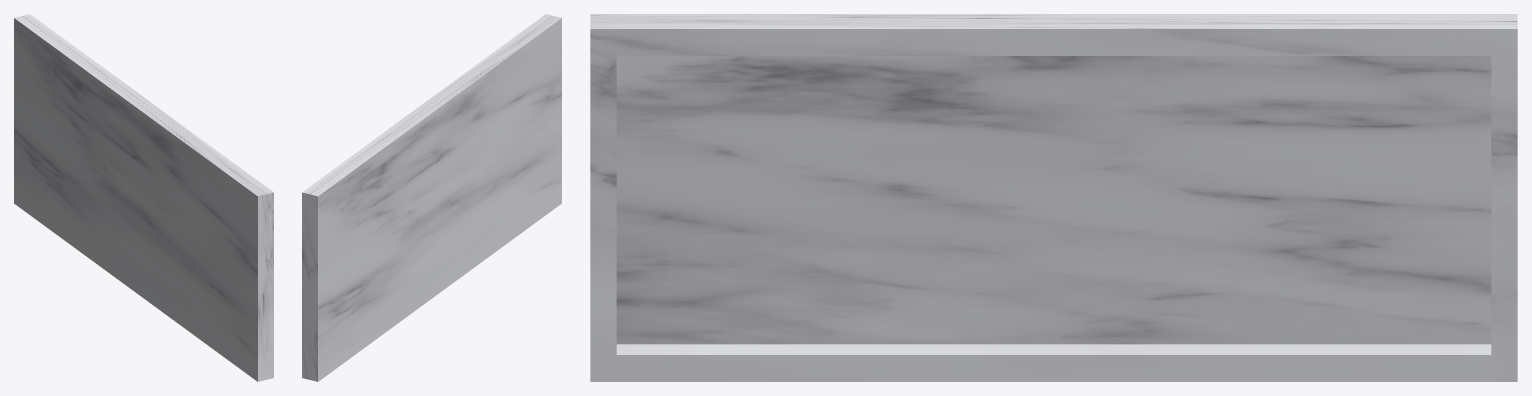
File: cfb0cced-4b67-463e-833e-51d65ac98ec7.glb
3 views of the same model, side by side, from view 1: azimuth 30°, elevation 25°; view 2: azimuth 150°, elevation 25°; view 3: azimuth 270°, elevation 25° (orthographic). The views are drawn at different scales.
Visible parts, largest first — view 1: Cube; view 2: Cube; view 3: Cube.
Part boxes in pixels (x1,y1,x2,y2): Cube: (14,14,273,381); Cube: (302,14,561,381); Cube: (590,14,1517,381).
Bounding box in the file's own units: 0.9425 × 10.37 × 24.7.
Materials: 1 (1 with a texture image).
